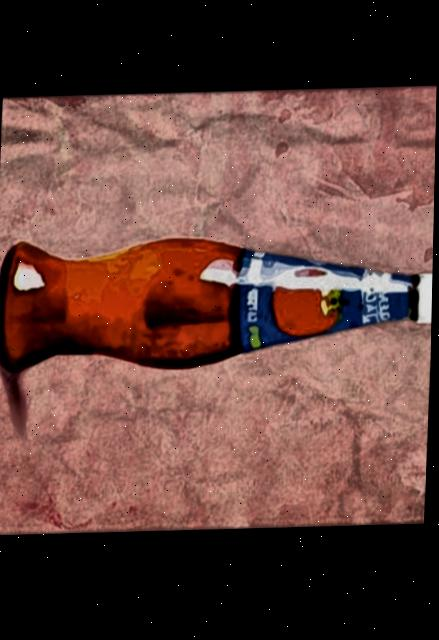La Botella: (0, 81, 437, 541)
